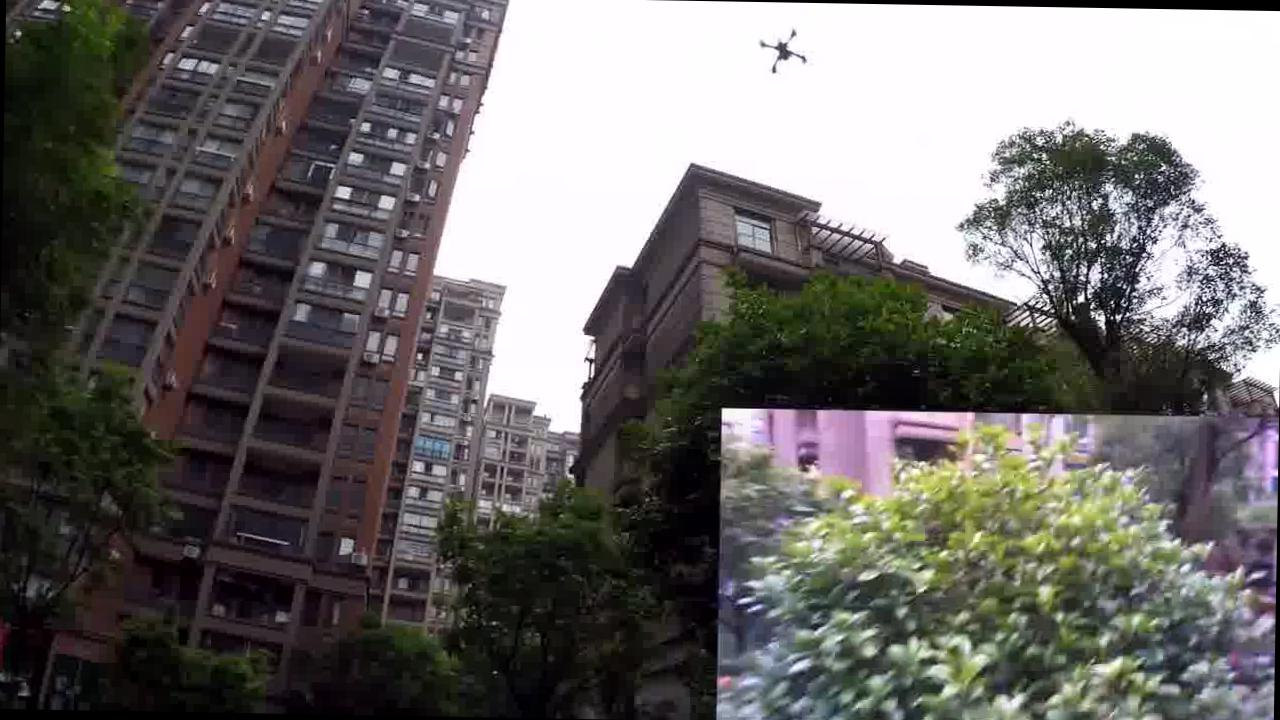drone: (753, 9, 811, 74)
